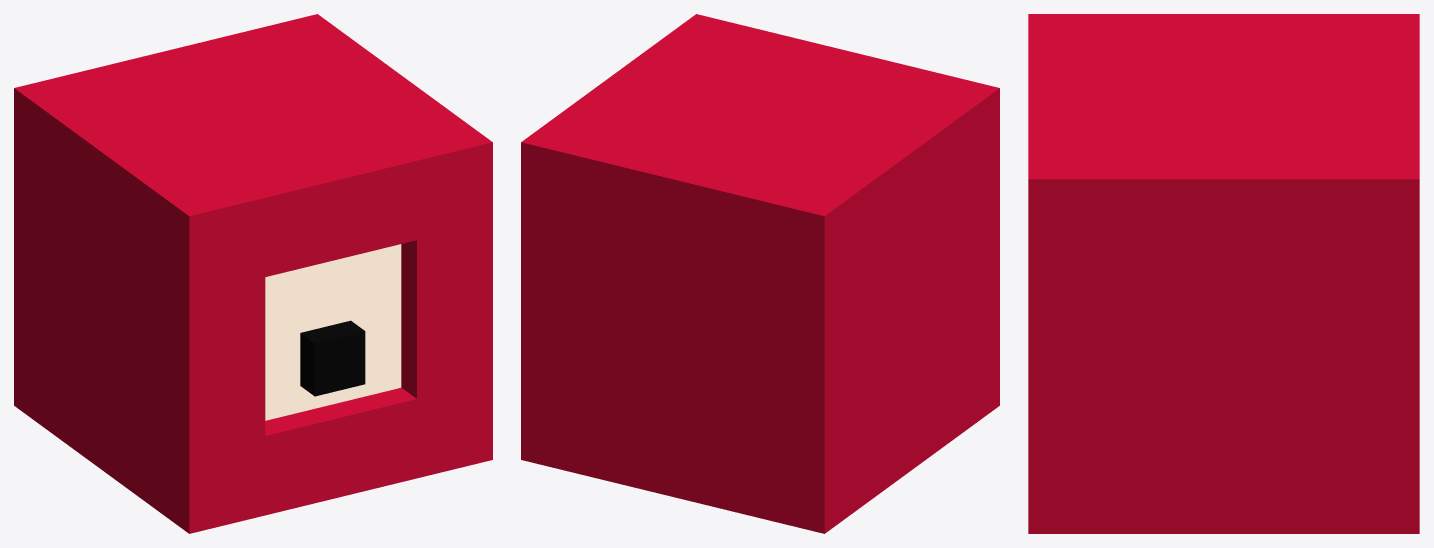
The model's file is cyclops.glb.
The picture shows the model from 3 angles, left to right: view 1: azimuth 30°, elevation 25°; view 2: azimuth 150°, elevation 25°; view 3: azimuth 270°, elevation 25°; orthographic projection. The views are drawn at different scales.
Visible parts, largest first — view 1: cyclops, cyclops-white, cyclops-pupil; view 2: cyclops; view 3: cyclops.
Boxes of the visible parts, x1,y1,x2,y2 form: cyclops: [14, 14, 492, 533]; cyclops-white: [265, 244, 401, 420]; cyclops-pupil: [300, 320, 365, 396]; cyclops: [521, 14, 999, 533]; cyclops: [1028, 14, 1419, 533].
Bounding box in the file's own units: 0.6 × 0.6 × 0.6.
